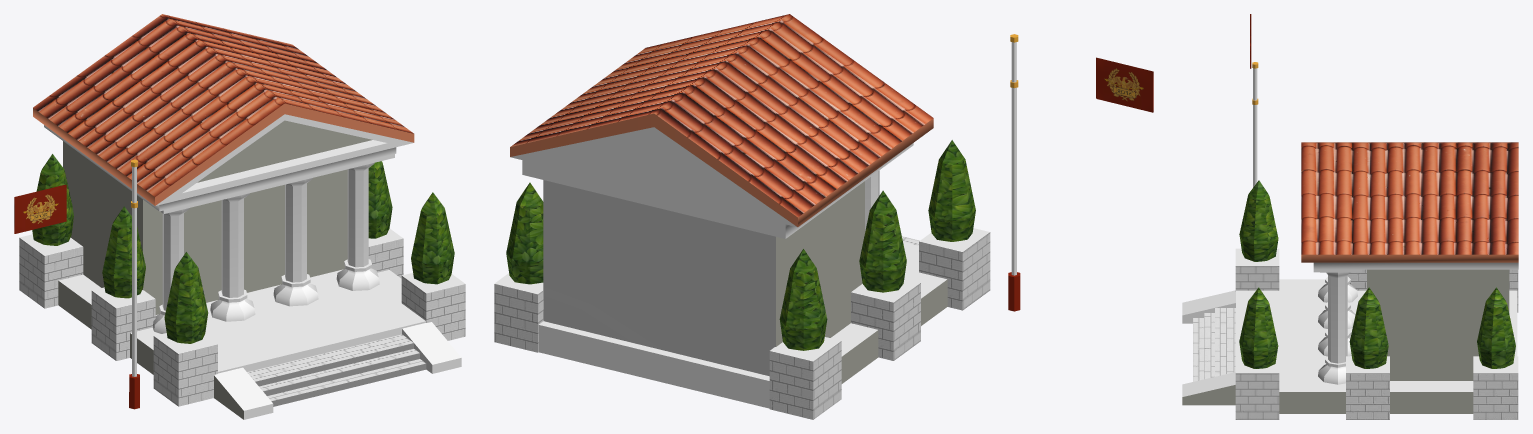
Rendered from nha roman 1.fbx.
3 renders of one model, left to right at view 1: azimuth 30°, elevation 25°; view 2: azimuth 150°, elevation 25°; view 3: azimuth 270°, elevation 25°, orthographic. The views are drawn at different scales.
Parts seen in each view (by area): view 1: nha_roman1, la_co, cot_co; view 2: nha_roman1, la_co, cot_co; view 3: nha_roman1, cot_co.
Part boxes in pixels (<box>): nha_roman1: <box>19,14,465,419</box>; la_co: <box>14,184,66,233</box>; cot_co: <box>129,159,139,409</box>; nha_roman1: <box>494,14,990,419</box>; la_co: <box>1096,57,1153,112</box>; cot_co: <box>1008,34,1020,311</box>; nha_roman1: <box>1182,142,1518,419</box>; cot_co: <box>1252,62,1258,187</box>.
Size of the model in its own units: 10.73 by 5.68 by 7.95.
3 materials, 1 textured.
